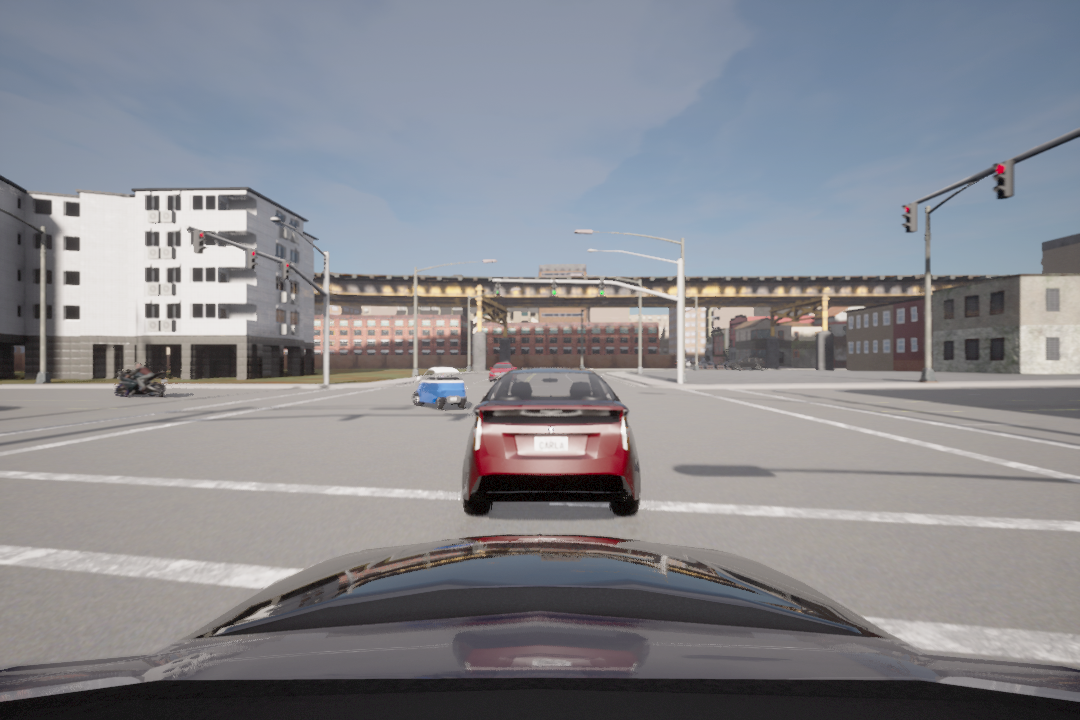TrafficLight: (990, 158, 1022, 207), (900, 200, 922, 237), (190, 230, 204, 256), (244, 247, 257, 273), (281, 261, 290, 281)
